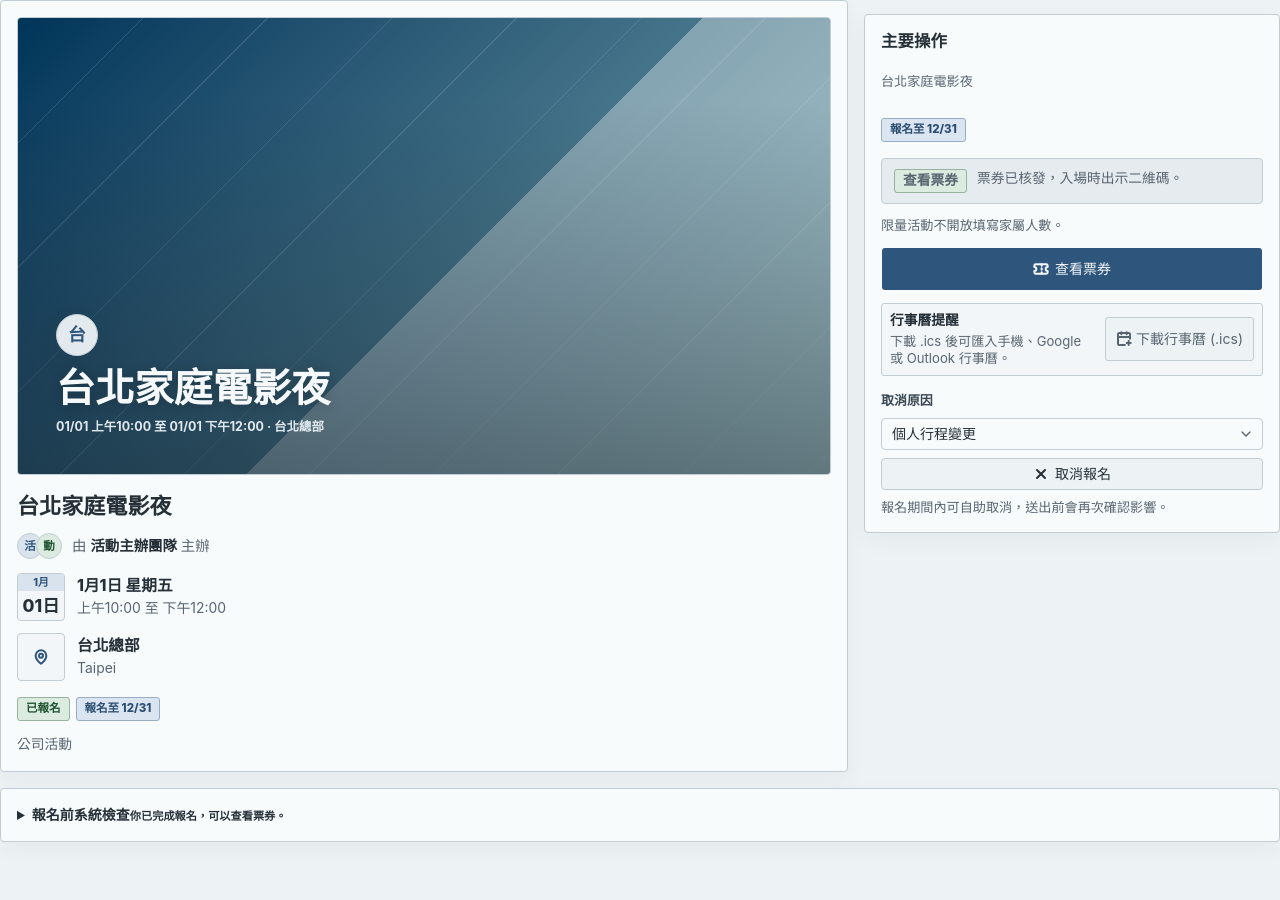
Test: EmployeeEventDetailPage › explains the cancellation outcome after a successful cancel
The image size is (1280, 900).
Click the button "取消報名" at (1072, 474), box [881,458,1263,490]
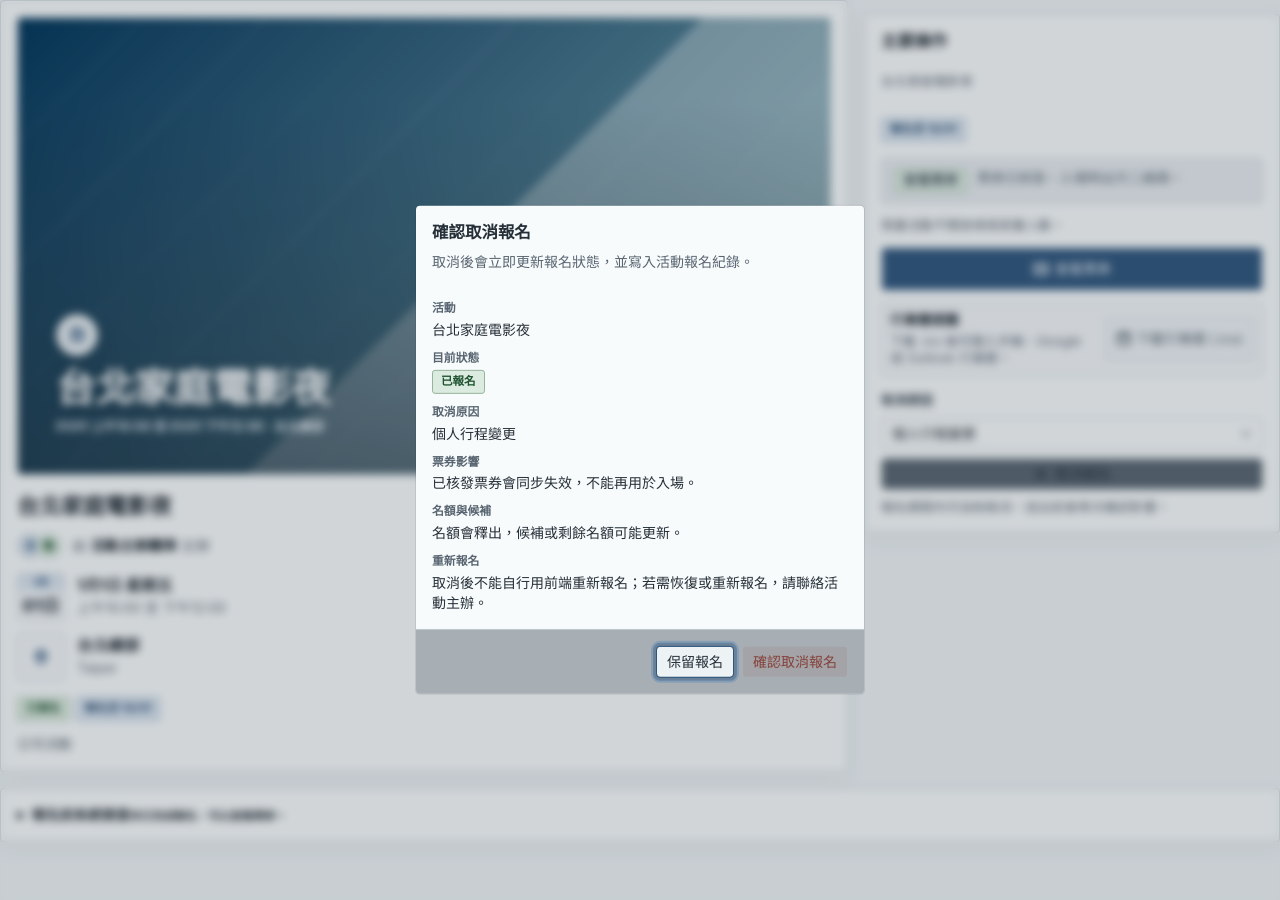
Check: the dialog is shown, box [416,206,864,694]
Check: the text "台北家庭電影夜" is shown, box [432,321,530,338]
Check: the text "已核發票券會同步失效，不能再用於入場。" is shown, box [432,474,698,491]
Click the button "確認取消報名" at (795, 662), box [742,646,848,678]
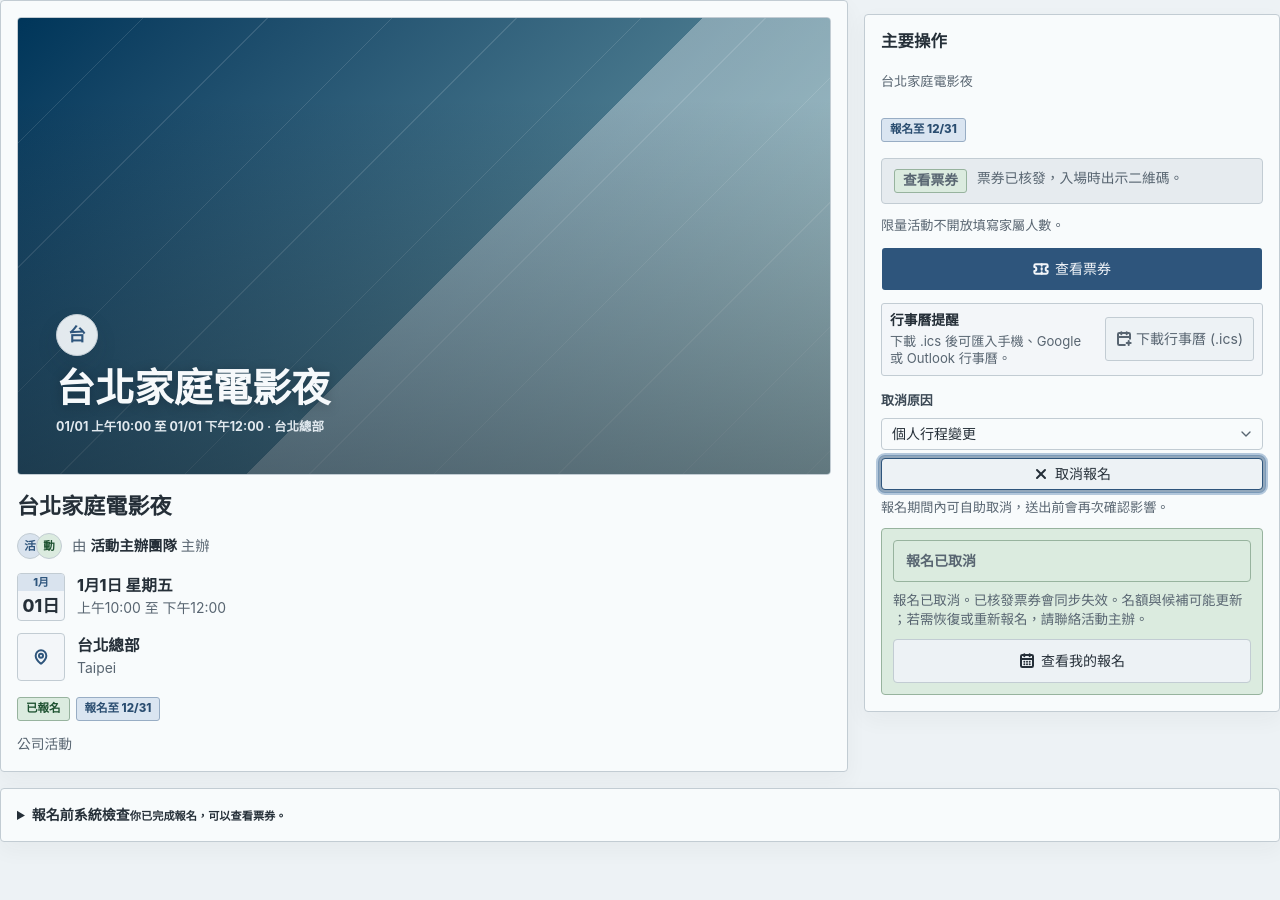
Check: the text "報名已取消" is shown, box [906,552,976,569]
Check: the text "報名已取消。已核發票券會同步失效。名額與候補可能更新；若需恢復或重新報名，請聯絡活動主辦。" is shown, box [893,591,1251,630]
